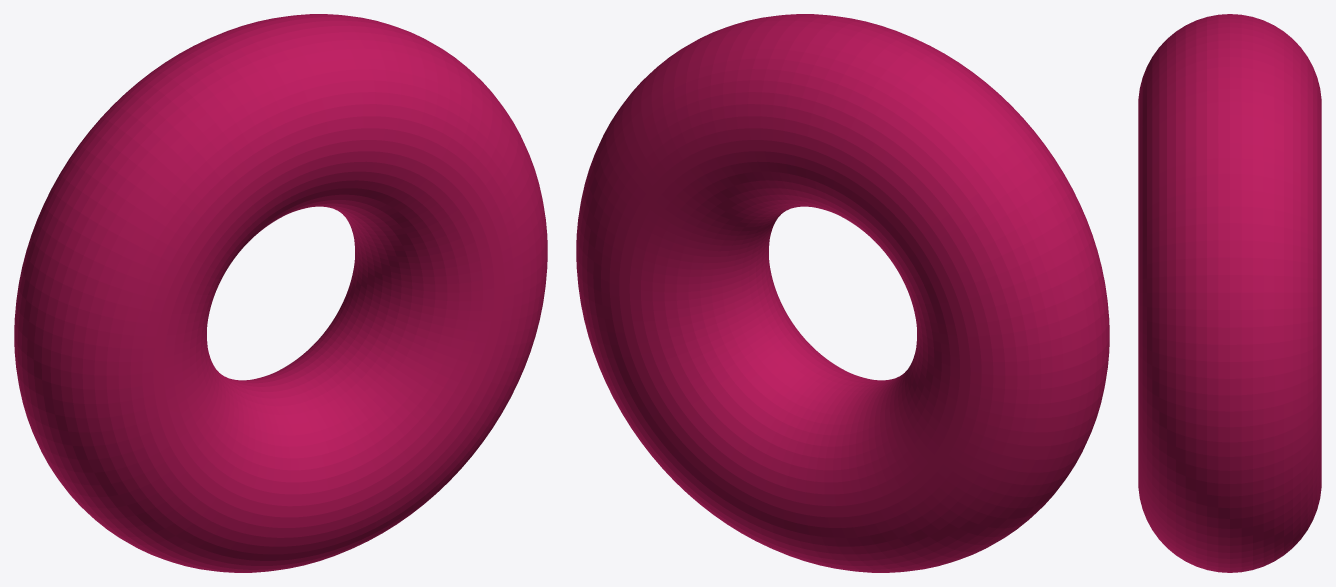
3 renders of one model, left to right at view 1: azimuth 30°, elevation 25°; view 2: azimuth 150°, elevation 25°; view 3: azimuth 270°, elevation 25°, orthographic. The views are drawn at different scales.
Visible parts, largest first — view 1: world; view 2: world; view 3: world.
Boxes of the visible parts, x1,y1,x2,y2 form: world: (14, 14, 547, 572); world: (576, 14, 1109, 572); world: (1138, 14, 1321, 572).
Bounding box in the file's own units: 28.8 × 28.8 × 9.45.
